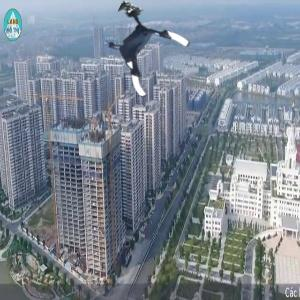drone: (102, 14, 183, 95)
